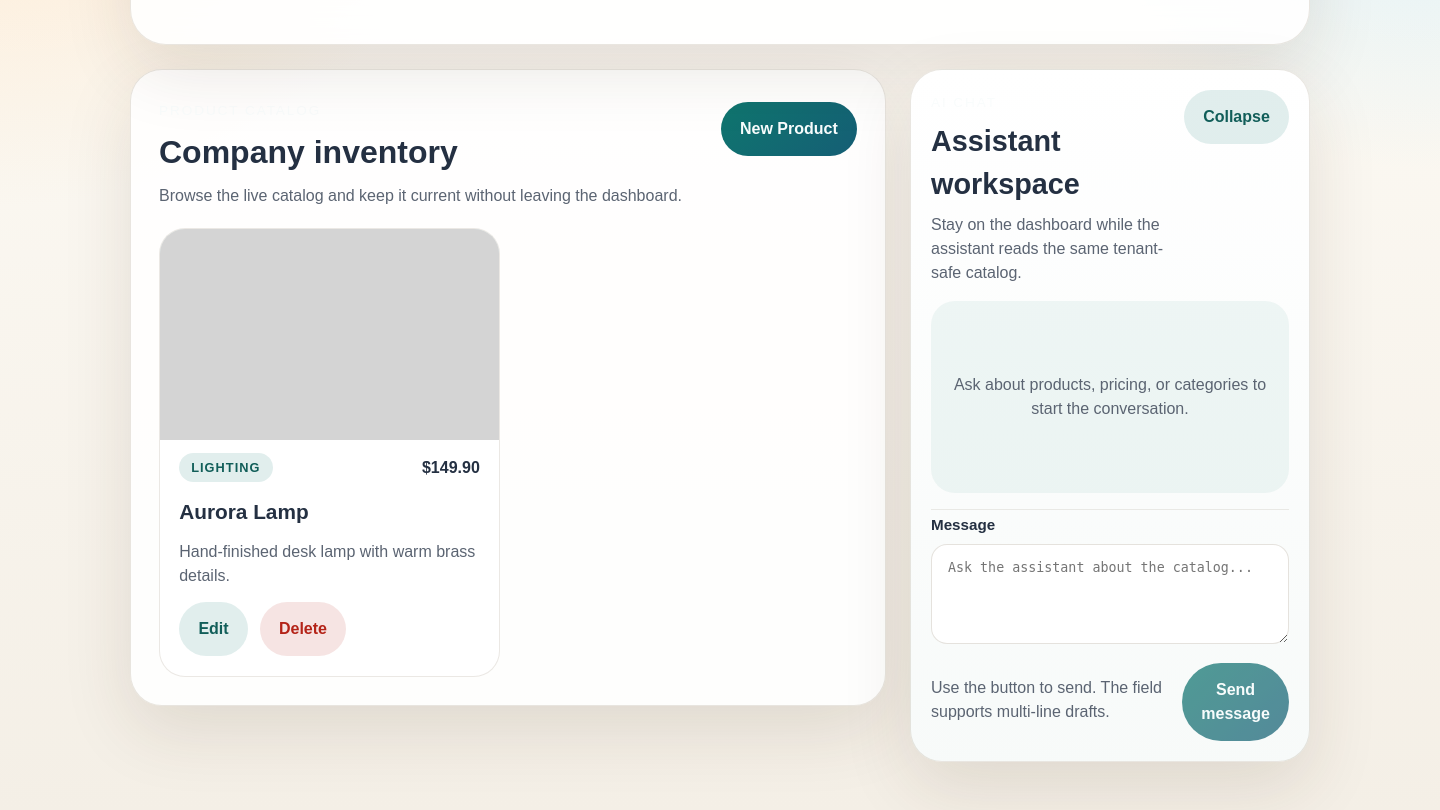
Test: DashboardPage integration › allows an admin to delete a product after confirmation
(page scrolled)
Expected: the heading "Company inventory" is shown, [159,134,458,170]
Expected: the heading "Aurora Lamp" is shown, [179,500,309,523]
Click the button "Delete" at coordinates (303, 629), box [260,602,346,656]
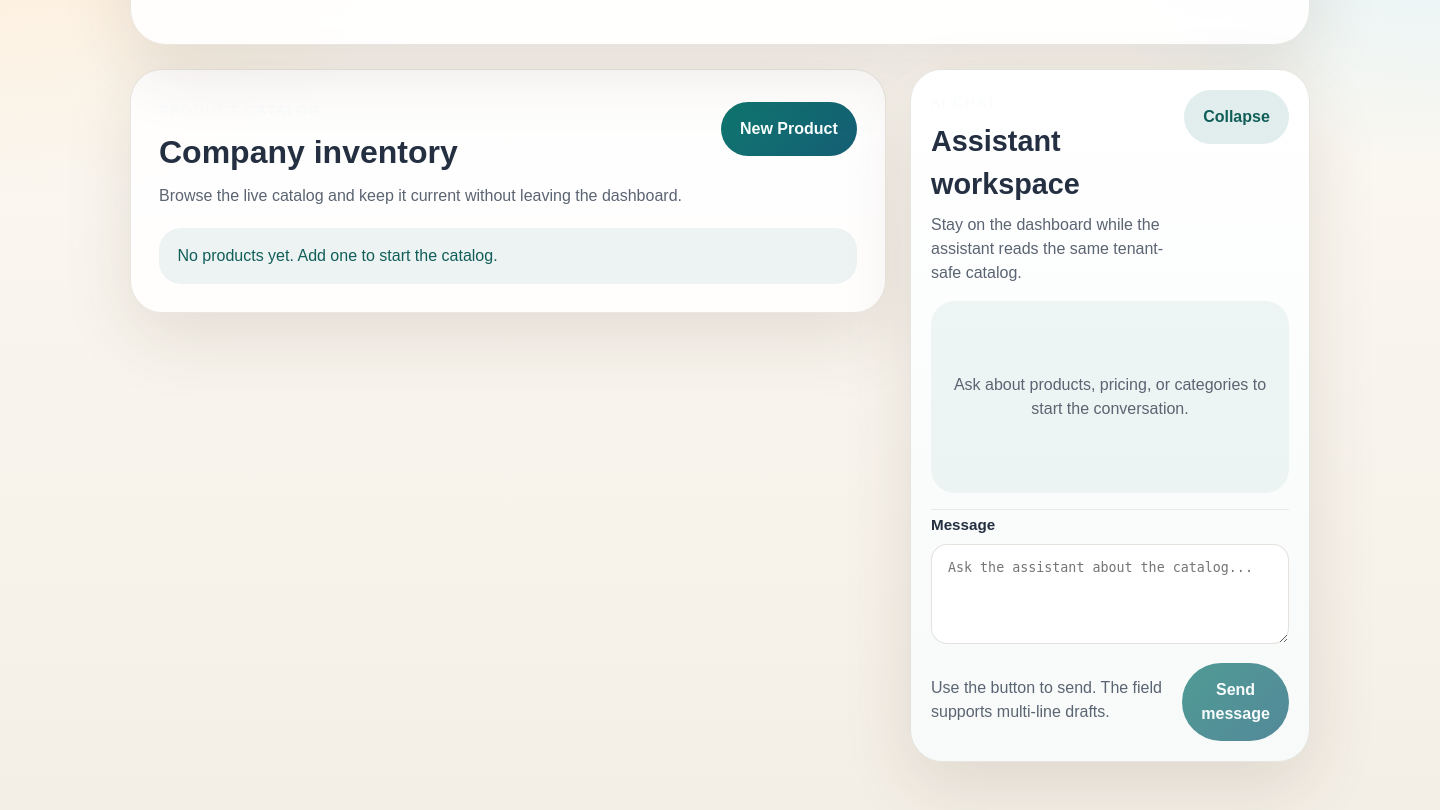
Now the text "No products yet. Add one to start the catalog." is shown, box [159,228,857,284]
